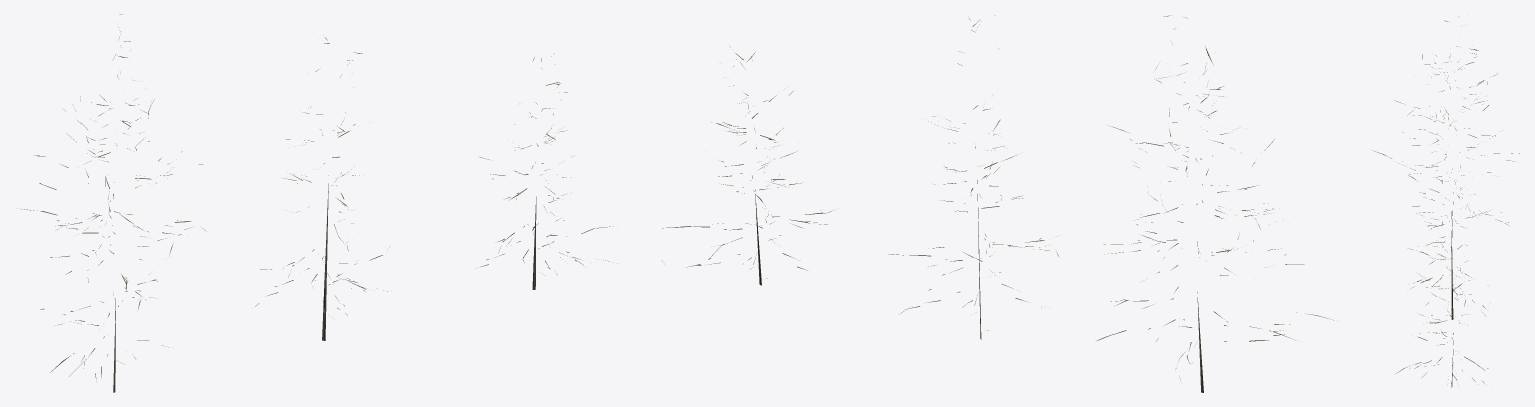
File: fir_sapling_medium_lo.glb
3 renders of one model, left to right at view 1: azimuth 30°, elevation 25°; view 2: azimuth 150°, elevation 25°; view 3: azimuth 270°, elevation 25°, orthographic. The views are drawn at different scales.
Parts seen in each view (by area): view 1: fir_sapling_medium_a_LOD0; view 2: fir_sapling_medium_a_LOD0; view 3: fir_sapling_medium_a_LOD0.
Boxes of the visible parts, <box> form: fir_sapling_medium_a_LOD0: <box>21,14,613,392</box>; fir_sapling_medium_a_LOD0: <box>662,15,1333,392</box>; fir_sapling_medium_a_LOD0: <box>1374,20,1519,387</box>.
Size of the model in its own units: 14.51 by 8.29 by 4.67.
3 materials, 3 textured.
